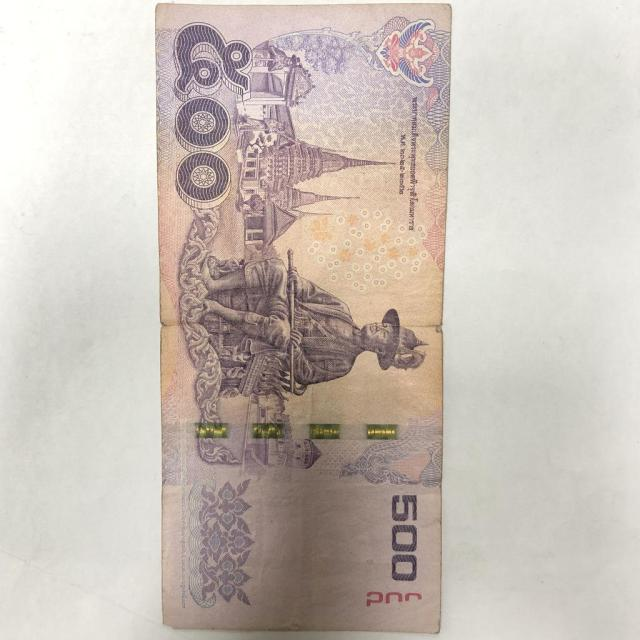THAI500: (152, 2, 452, 639)
